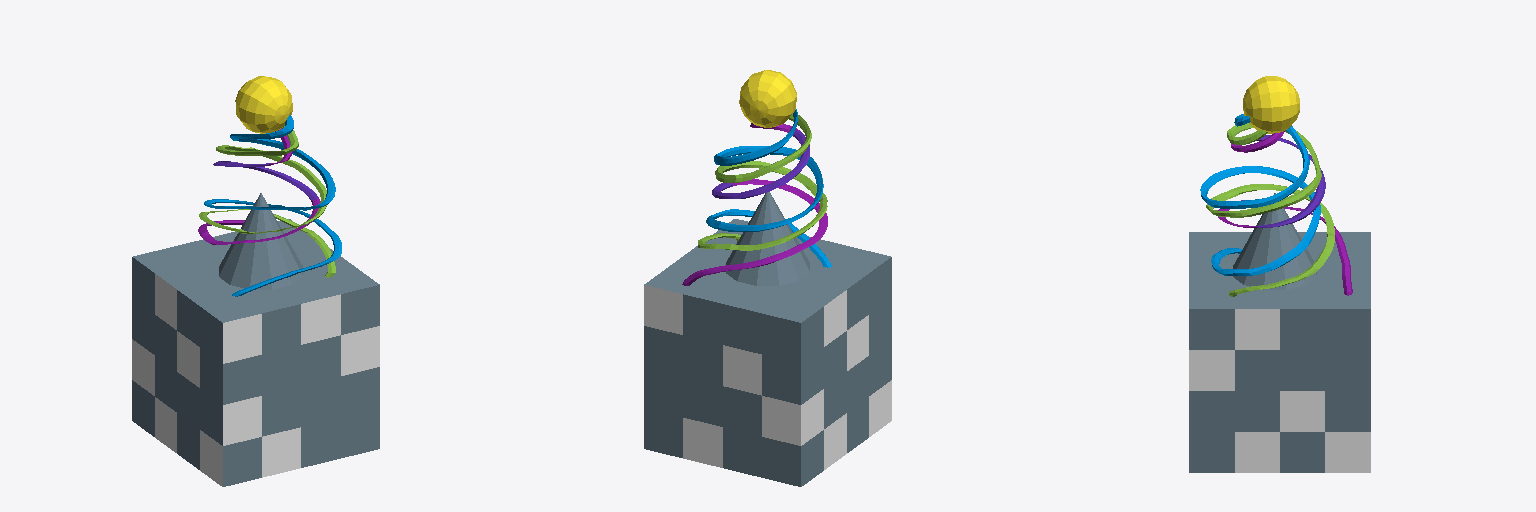
3 renders of one model, left to right at view 1: azimuth 30°, elevation 25°; view 2: azimuth 150°, elevation 25°; view 3: azimuth 270°, elevation 25°, orthographic.
Parts seen in each view (by area): view 1: group[number redacted], group[number redacted], group[number redacted], group[number redacted], group[number redacted], group[number redacted]; view 2: group[number redacted], group[number redacted], group[number redacted], group[number redacted], group[number redacted], group[number redacted]; view 3: group[number redacted], group[number redacted], group[number redacted], group[number redacted], group[number redacted], group[number redacted].
Part boxes in pixels (bbox=[...]): group[number redacted]: bbox=[132, 219, 379, 486]; group[number redacted]: bbox=[219, 193, 302, 289]; group[number redacted]: bbox=[204, 115, 341, 296]; group[number redacted]: bbox=[235, 76, 292, 133]; group[number redacted]: bbox=[199, 126, 335, 277]; group[number redacted]: bbox=[198, 128, 320, 244]; group[number redacted]: bbox=[644, 219, 891, 486]; group[number redacted]: bbox=[726, 192, 809, 285]; group[number redacted]: bbox=[706, 109, 831, 267]; group[number redacted]: bbox=[682, 123, 827, 285]; group[number redacted]: bbox=[698, 114, 827, 250]; group[number redacted]: bbox=[739, 70, 796, 127]; group[number redacted]: bbox=[1189, 232, 1370, 472]; group[number redacted]: bbox=[1200, 114, 1320, 275]; group[number redacted]: bbox=[1233, 193, 1316, 289]; group[number redacted]: bbox=[1206, 123, 1334, 296]; group[number redacted]: bbox=[1243, 76, 1299, 133]; group[number redacted]: bbox=[1218, 131, 1352, 295].
Bounding box in the file's own units: 2.01 × 4.37 × 2.01.